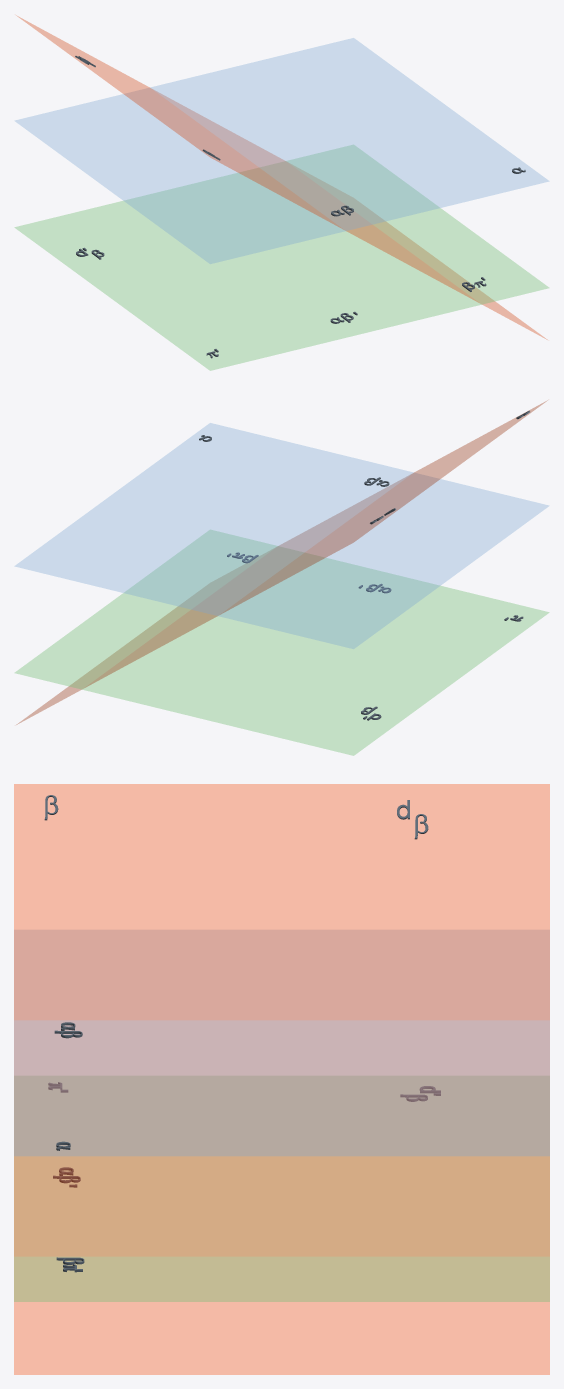
File: int_pq_ph.glb
3 views of the same model, one above another, from view 1: azimuth 30°, elevation 25°; view 2: azimuth 150°, elevation 25°; view 3: azimuth 270°, elevation 25° (orthographic). The views are drawn at different scales.
Parts seen in each view (by area): view 1: root; view 2: root; view 3: root.
Part boxes in pixels (x1,y1,x2,y2): root: (14, 15, 549, 370); root: (14, 400, 549, 755); root: (14, 784, 549, 1374).
Bounding box in the file's own units: 2.54 × 1.91 × 2.54.
